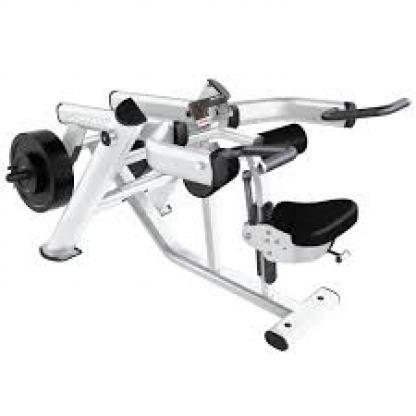seated dip machine: (1, 44, 411, 361)
